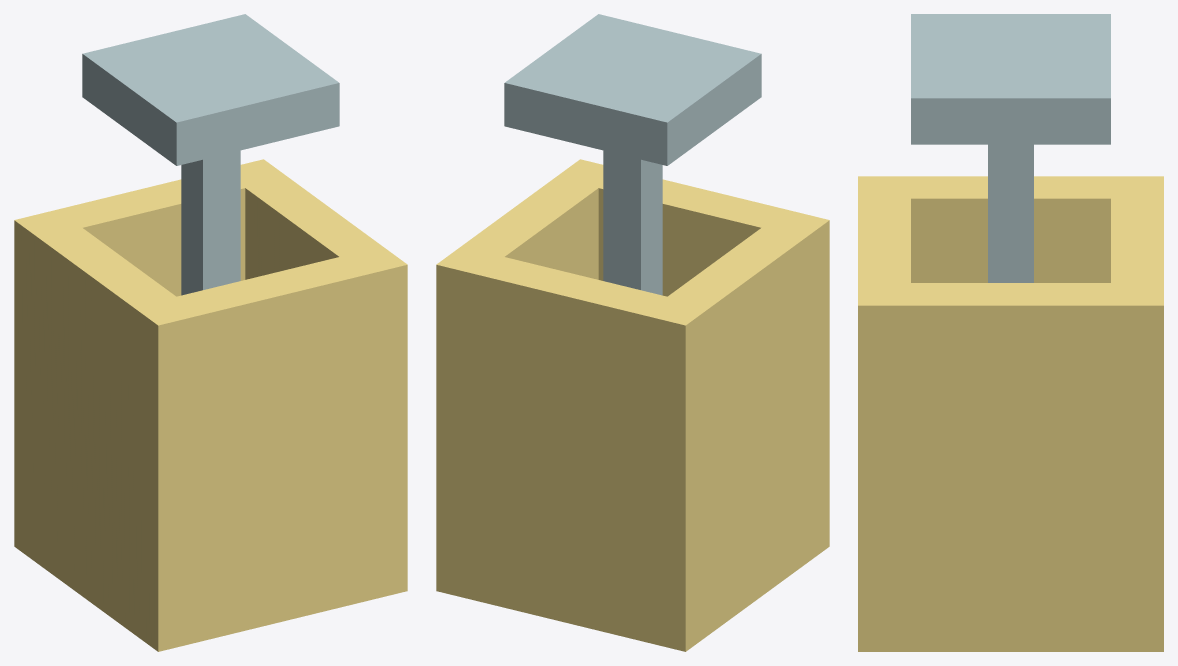
Rendered from Lamp Square Ceiling.glb.
The picture shows the model from 3 angles, left to right: view 1: azimuth 30°, elevation 25°; view 2: azimuth 150°, elevation 25°; view 3: azimuth 270°, elevation 25°; orthographic projection. The views are drawn at different scales.
Visible parts, largest first — view 1: lampSquareCeiling(Clone); view 2: lampSquareCeiling(Clone); view 3: lampSquareCeiling(Clone).
Part boxes in pixels (bbox=[...]): lampSquareCeiling(Clone): bbox=[14, 14, 407, 651]; lampSquareCeiling(Clone): bbox=[436, 14, 829, 651]; lampSquareCeiling(Clone): bbox=[858, 14, 1163, 651].
Size of the model in its own units: 0.12 by 0.23 by 0.12.
